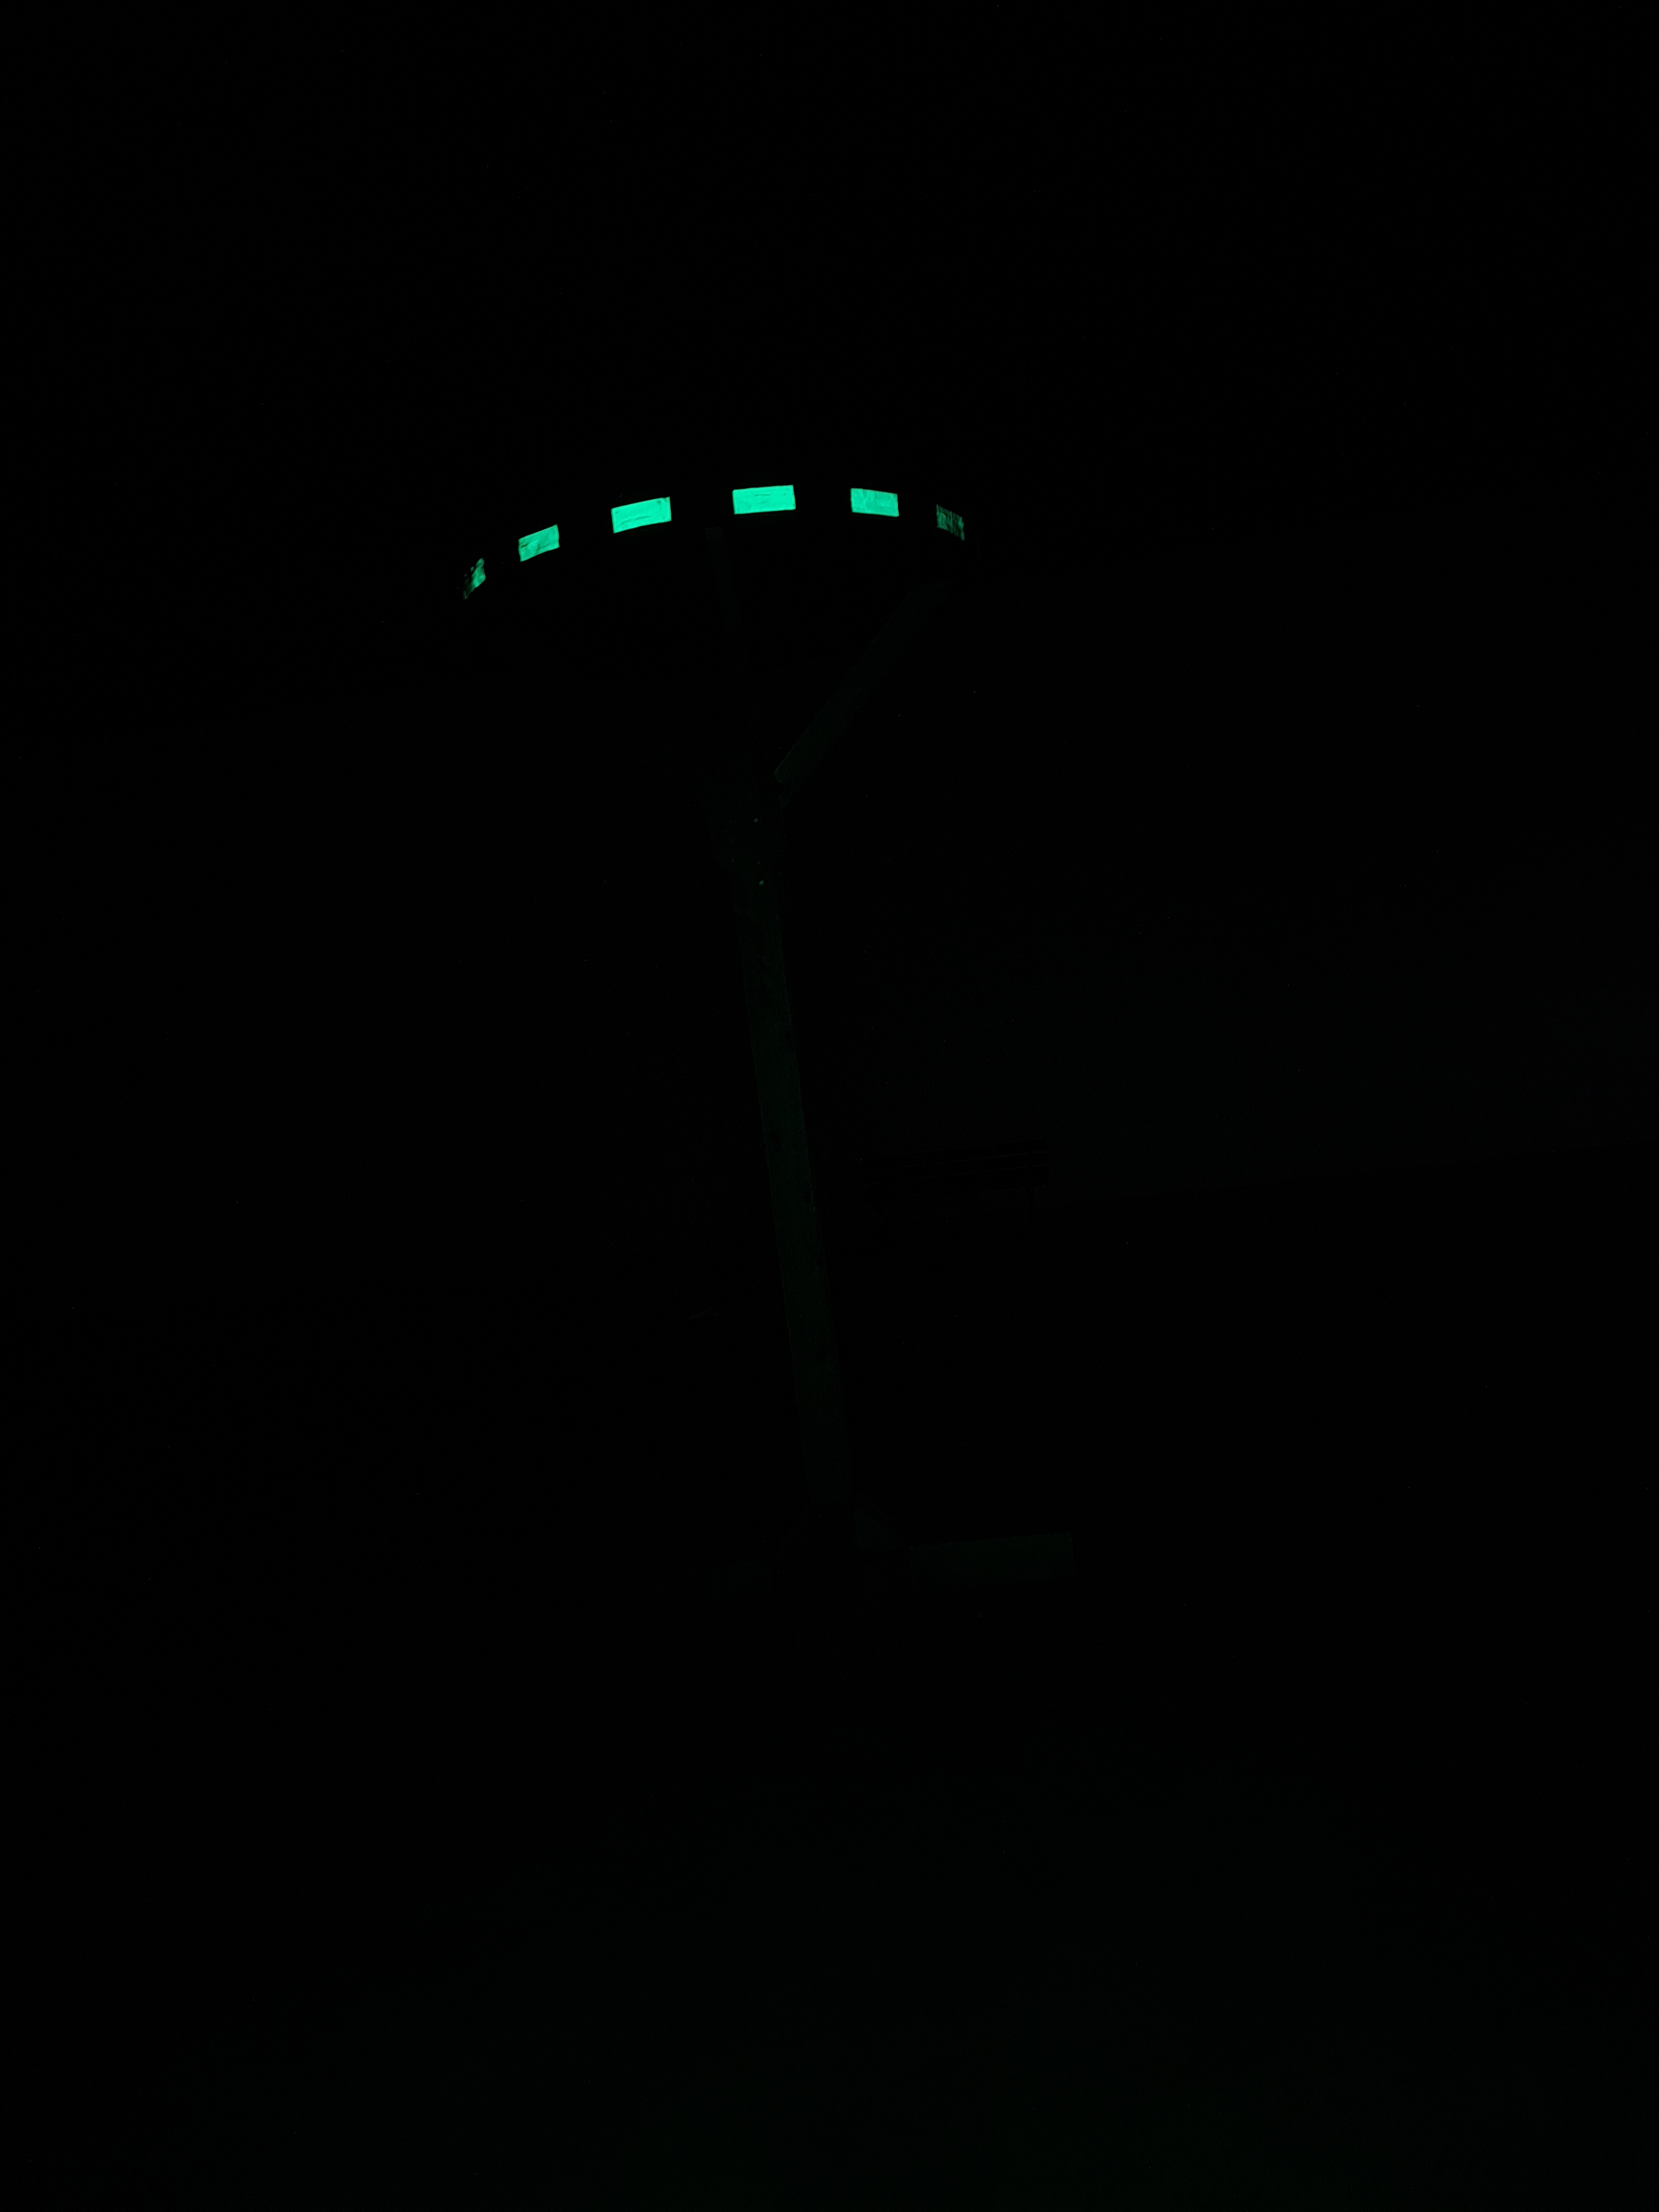hoop: (453, 472, 972, 608)
